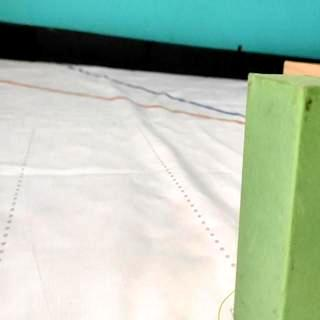greenbox: (231, 71, 320, 320)
